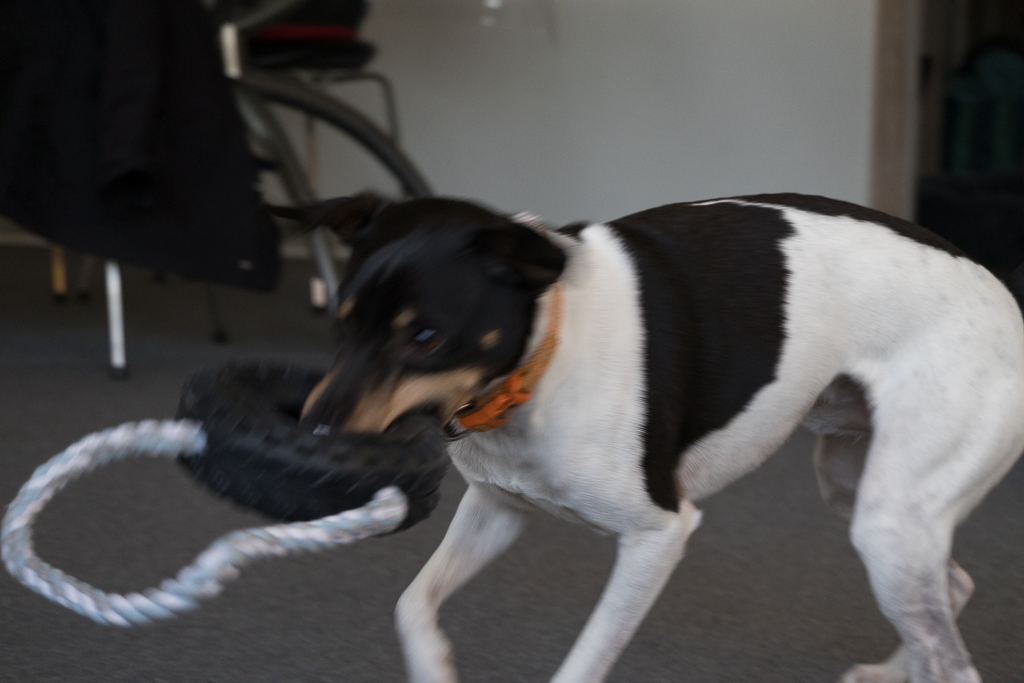Dog: (232, 187, 1024, 683)
